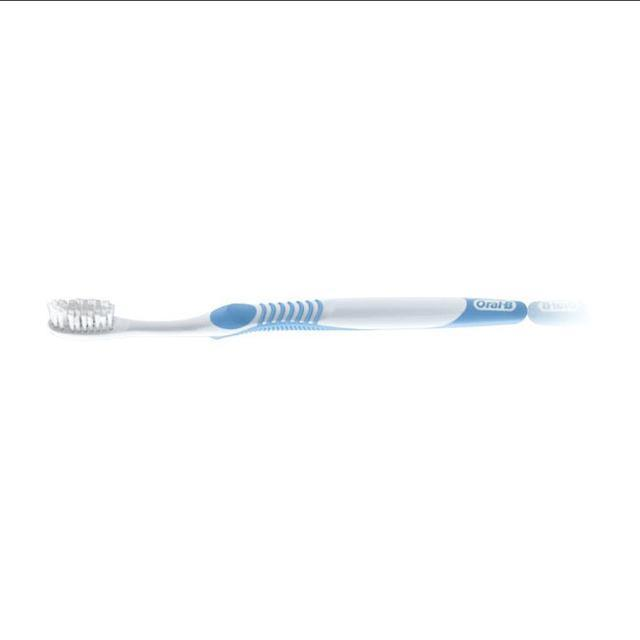toothbrush: (0, 269, 600, 381)
